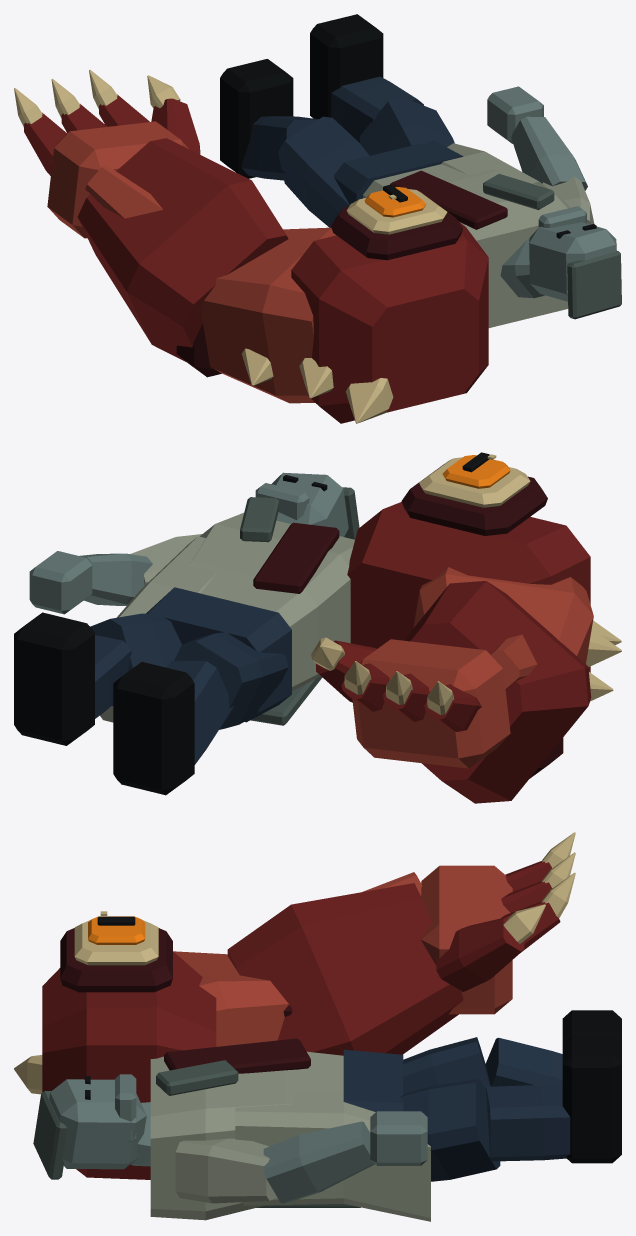
The model's file is g1_birkin.obj.
3 views of the same model, one above another, from view 1: azimuth 30°, elevation 25°; view 2: azimuth 150°, elevation 25°; view 3: azimuth 270°, elevation 25° (orthographic). The views are drawn at different scales.
Visible parts, largest first — view 1: mutation_shoulder, mutation_forearm, mutation_upper_arm, leaning_torso, mutation_palm, thigh_1.001, boot_1.001, boot_-1.001, head.001, eye_socket, thigh_-1.001, pelvis (+26 smaller); view 2: mutation_shoulder, mutation_forearm, mutation_palm, leaning_torso, boot_1.001, boot_-1.001, pelvis, mutation_upper_arm, thigh_1.001, eye_socket, shirt_opening, normal_hand (+23 smaller); view 3: mutation_forearm, mutation_shoulder, leaning_torso, ragged_coat_left, mutation_palm, boot_-1.001, thigh_-1.001, head.001, shin_-1.001, normal_forearm, normal_upper_arm, mutation_upper_arm (+22 smaller).
Part boxes in pixels (x1=…): mutation_shoulder: x1=291, y1=221, x2=488, y2=423; mutation_forearm: x1=77, y1=138, x2=288, y2=361; mutation_upper_arm: x1=201, y1=227, x2=336, y2=403; leaning_torso: x1=363, y1=164, x2=570, y2=327; mutation_palm: x1=47, y1=121, x2=188, y2=238; thigh_1.001: x1=278, y1=116, x2=369, y2=227; boot_1.001: x1=220, y1=59, x2=293, y2=178; boot_-1.001: x1=310, y1=14, x2=383, y2=118; head.001: x1=529, y1=222, x2=616, y2=301; eye_socket: x1=331, y1=200, x2=463, y2=260; thigh_-1.001: x1=359, y1=97, x2=454, y2=155; pelvis: x1=334, y1=140, x2=463, y2=204; mutation_shoulder: x1=347, y1=502, x2=590, y2=672; mutation_forearm: x1=404, y1=581, x2=591, y2=803; mutation_palm: x1=352, y1=639, x2=510, y2=768; leaning_torso: x1=189, y1=512, x2=354, y2=690; boot_1.001: x1=113, y1=662, x2=194, y2=795; boot_-1.001: x1=14, y1=612, x2=94, y2=745; pelvis: x1=146, y1=587, x2=291, y2=722; mutation_upper_arm: x1=413, y1=567, x2=593, y2=663; thigh_1.001: x1=174, y1=632, x2=288, y2=729; eye_socket: x1=401, y1=464, x2=547, y2=535; shirt_opening: x1=253, y1=522, x2=339, y2=593; normal_hand: x1=29, y1=551, x2=92, y2=614; mutation_forearm: x1=227, y1=883, x2=463, y2=1055; mutation_shoulder: x1=42, y1=951, x2=216, y2=1179; leaning_torso: x1=150, y1=1051, x2=343, y2=1220; ragged_coat_left: x1=235, y1=1090, x2=430, y2=1221; mutation_palm: x1=421, y1=865, x2=512, y2=1014; boot_-1.001: x1=562, y1=1033, x2=621, y2=1163; thigh_-1.001: x1=399, y1=1079, x2=500, y2=1181; head.001: x1=49, y1=1079, x2=146, y2=1169; shin_-1.001: x1=486, y1=1085, x2=570, y2=1161; normal_forearm: x1=263, y1=1121, x2=374, y2=1203; normal_upper_arm: x1=175, y1=1138, x2=277, y2=1203; mutation_upper_arm: x1=173, y1=951, x2=288, y2=1046.
Size of the model in its own units: 2.71 by 1.21 by 2.86.
